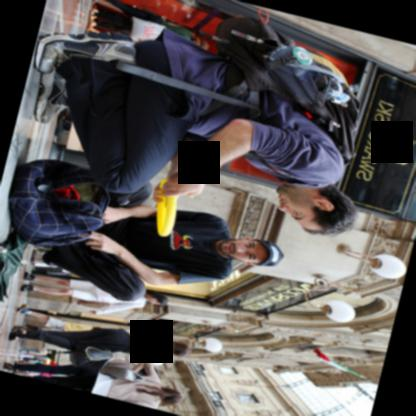backpack: (202, 20, 358, 163)
handbag: (7, 159, 106, 246), (68, 345, 136, 369), (99, 364, 160, 386), (123, 15, 166, 43), (75, 300, 143, 308)
suitcase: (7, 160, 110, 242)
